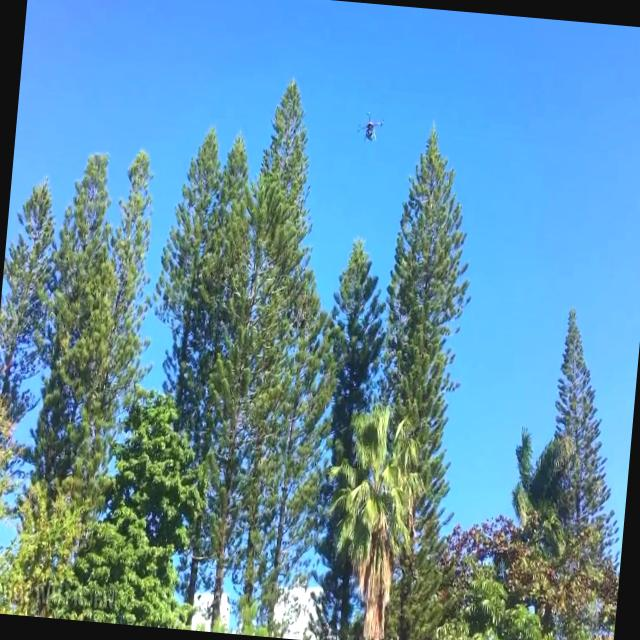drone: (352, 105, 386, 148)
